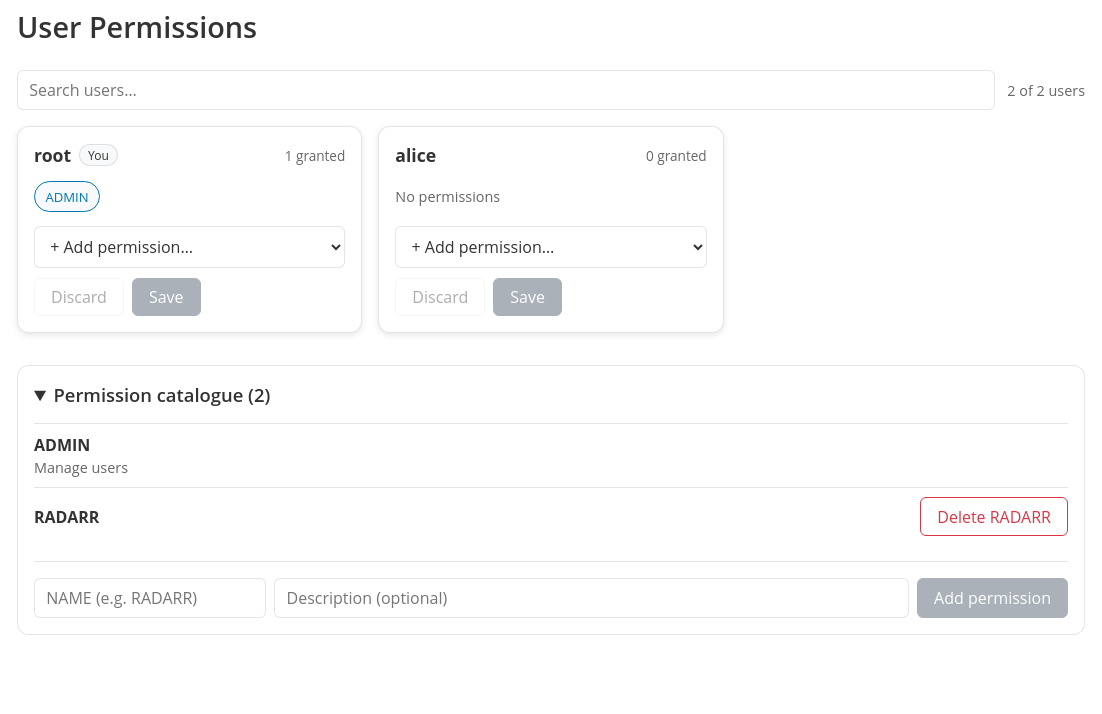
it: AdminUsers › shows an error when saving fails
Select "RADARR" in the dropdown named "Add permission to alice". click: x=551, y=247
box: [395,226,707,268]
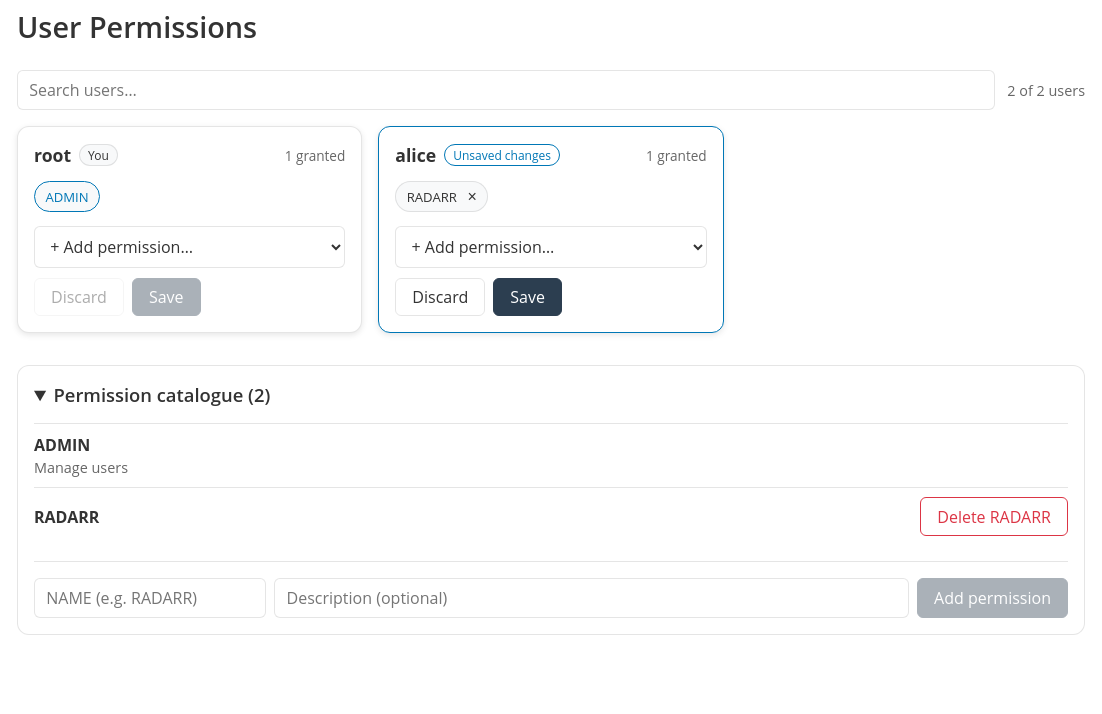
Click the button "Save" below "alice". click: x=528, y=297
box: [493,278,562,316]
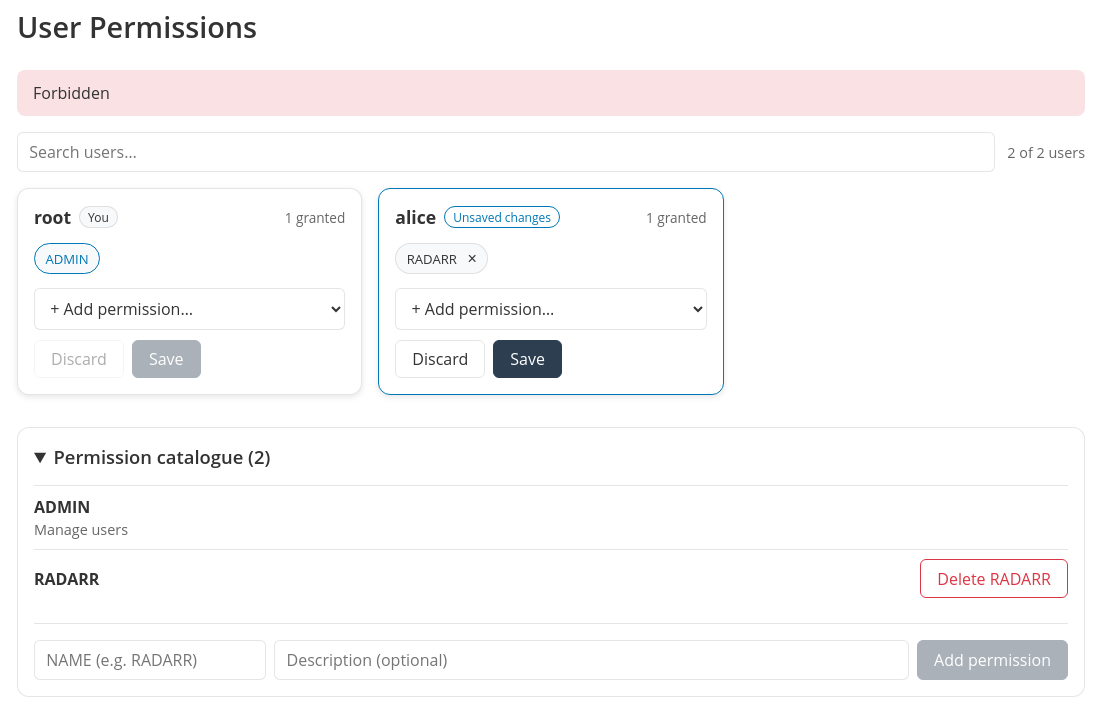
Expected: the message reads "Forbidden", [33,82,110,104]
